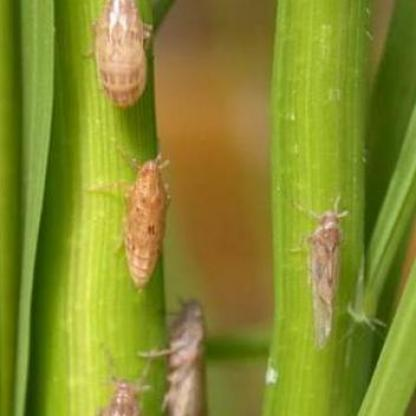brown-planthopper: (94, 1, 152, 106), (125, 161, 168, 288), (167, 303, 214, 416), (312, 214, 344, 344), (103, 375, 139, 416)
